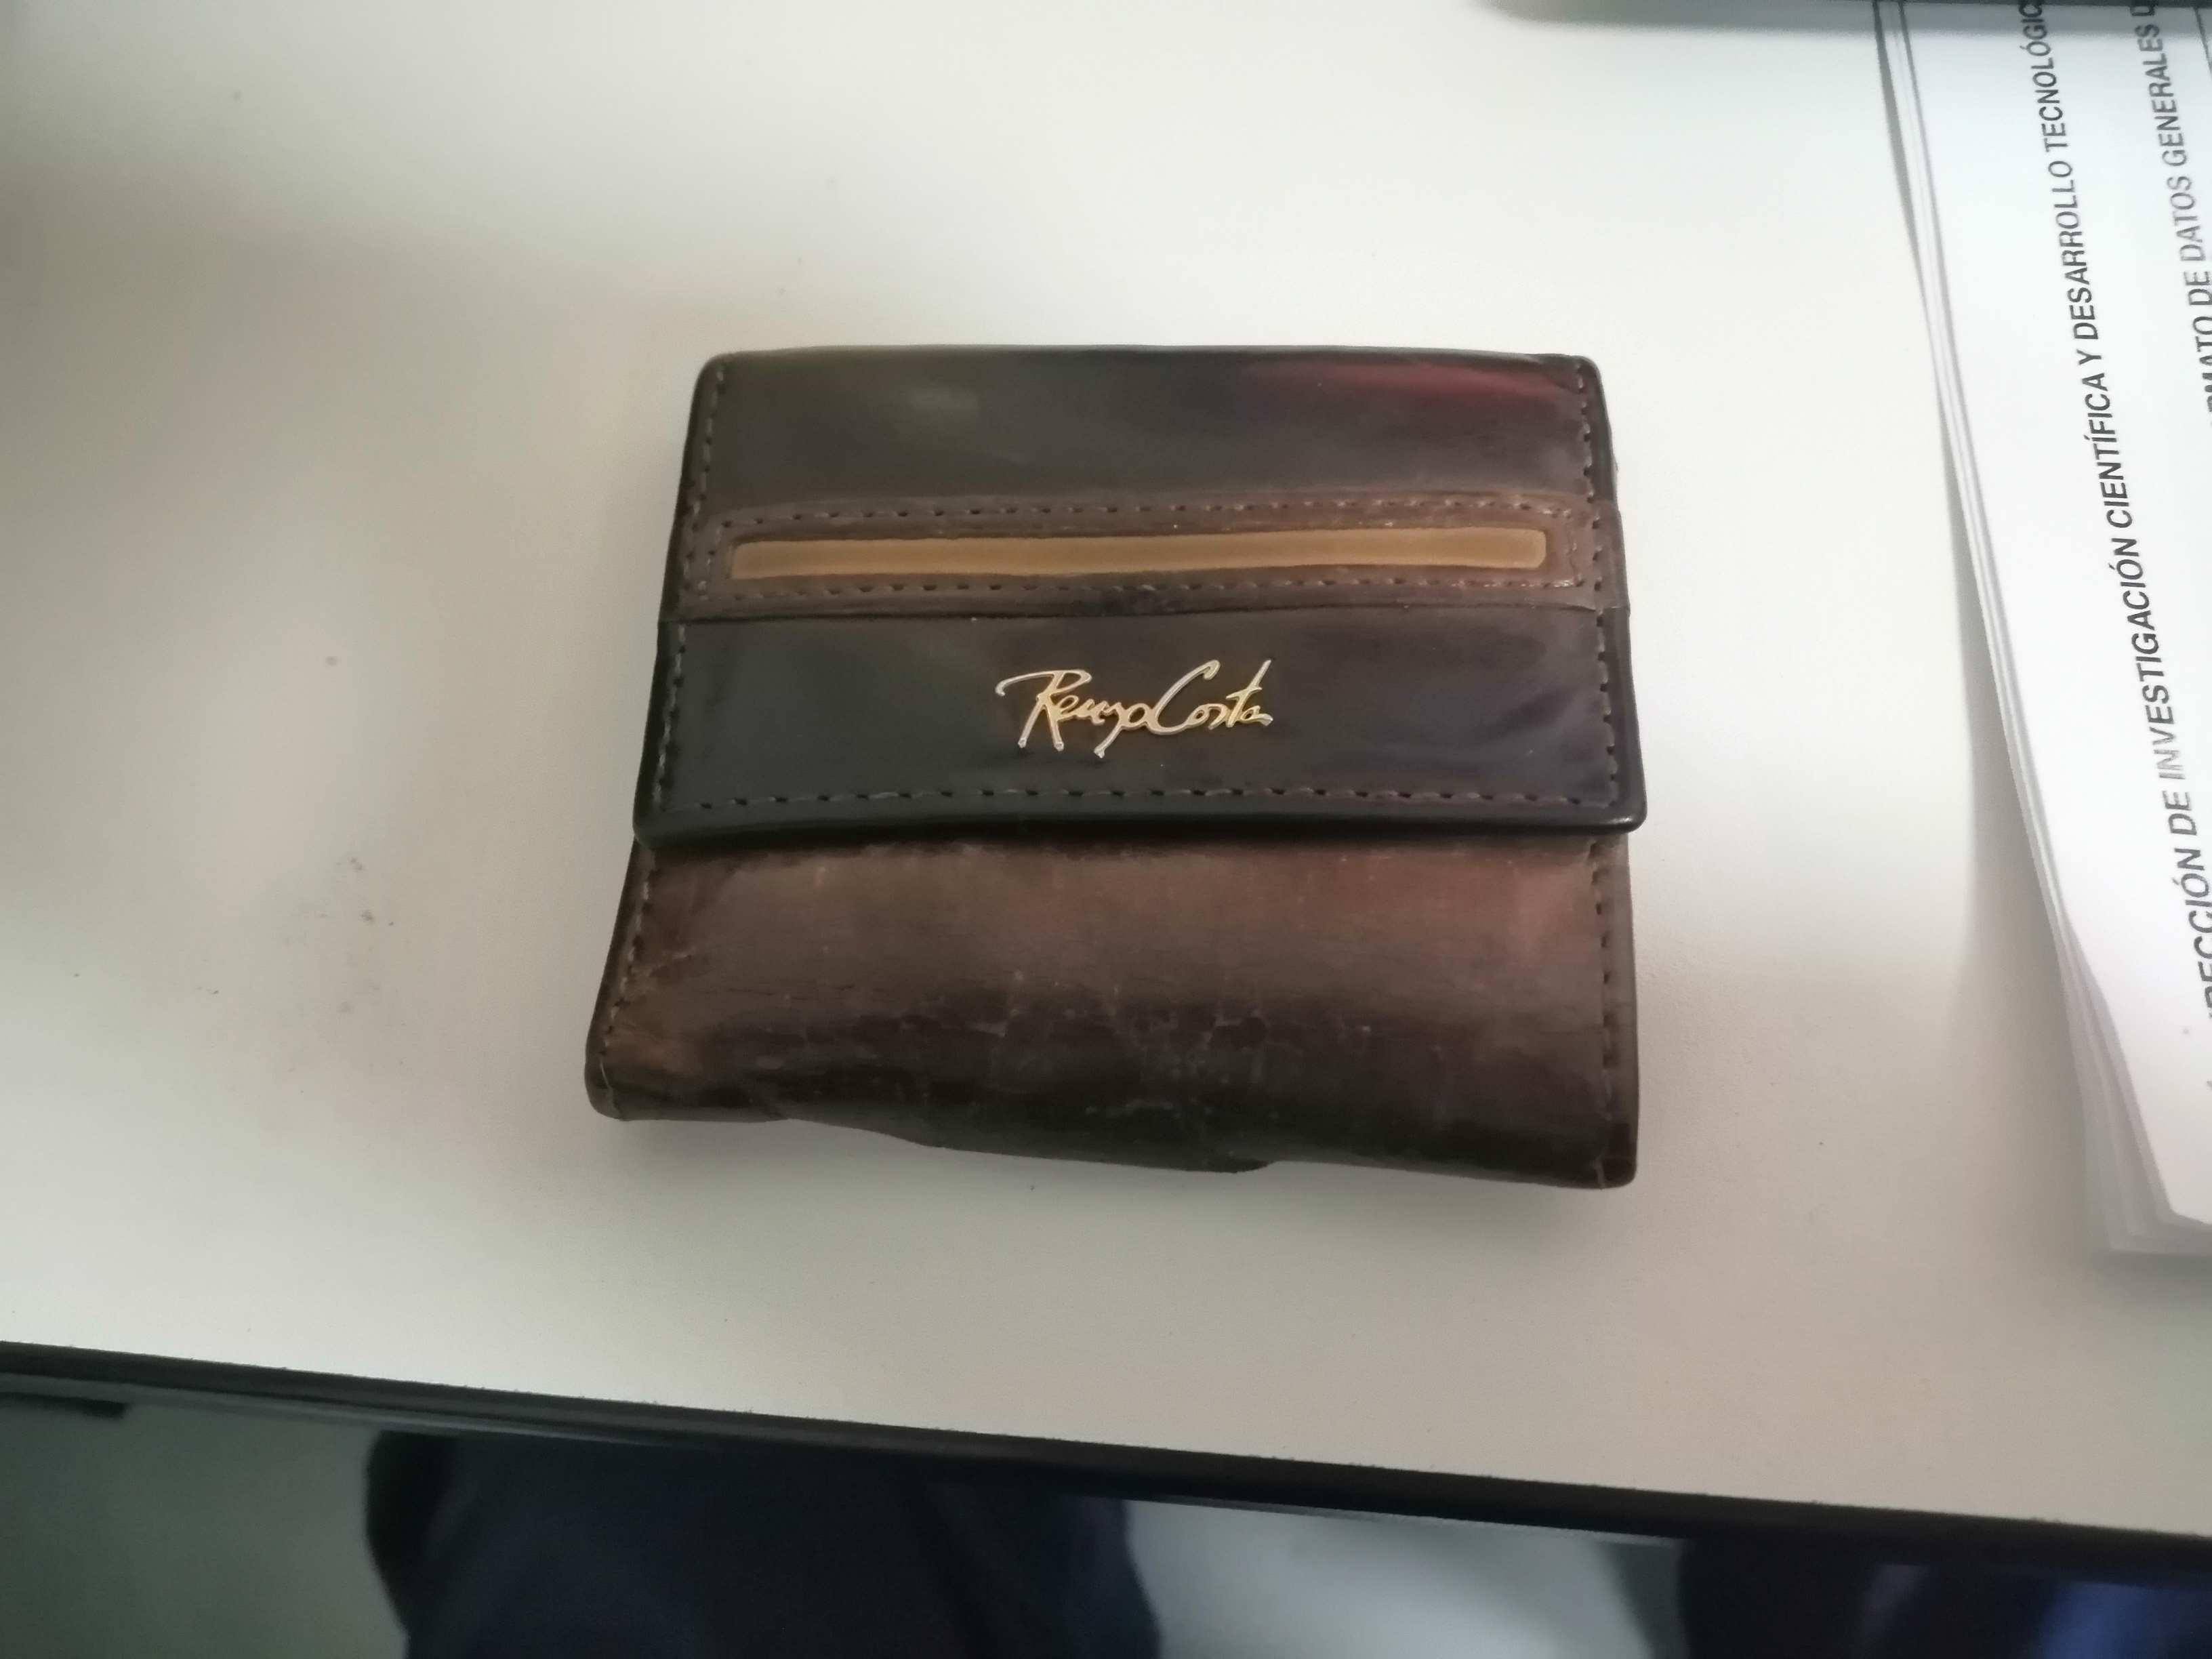monedero: (549, 333, 1667, 1211)
